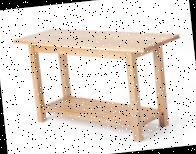Mesa: (14, 17, 187, 153)
